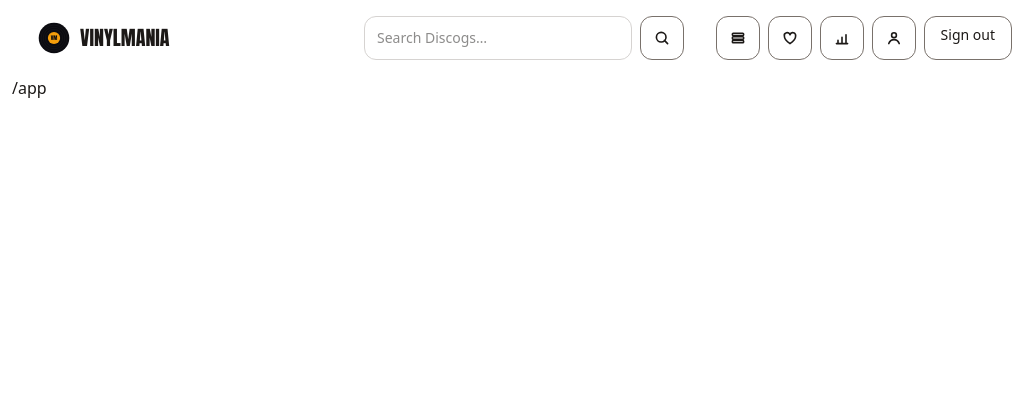
Test: Header search — suggestions (069 US2) › renders and announces nothing when a lookup cleared mid-flight finally lands (FR-015)
Click the button named "search" at {"x": 662, "y": 38}, box [640,16,684,60]
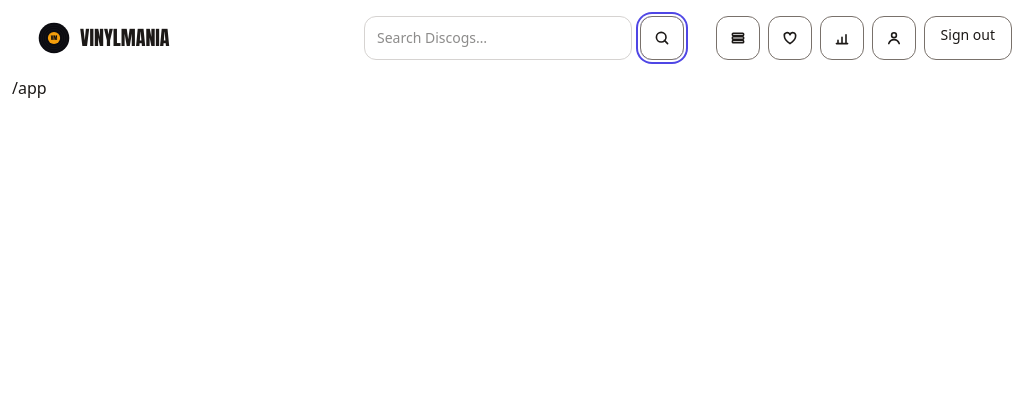
Type "miles" into the dropdown labelled "Search Discogs…" at {"x": 498, "y": 38}, box [364,16,632,60]
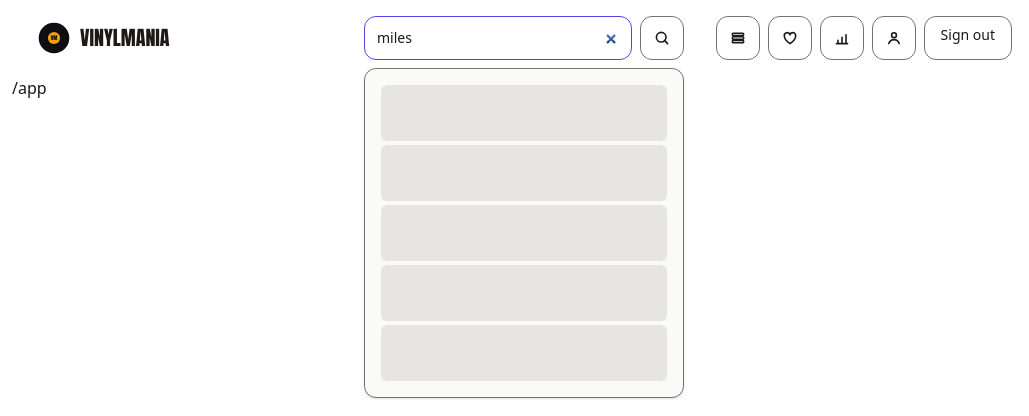
Clear the dropdown named "Search Discogs" at {"x": 498, "y": 38}, box [364,16,632,60]
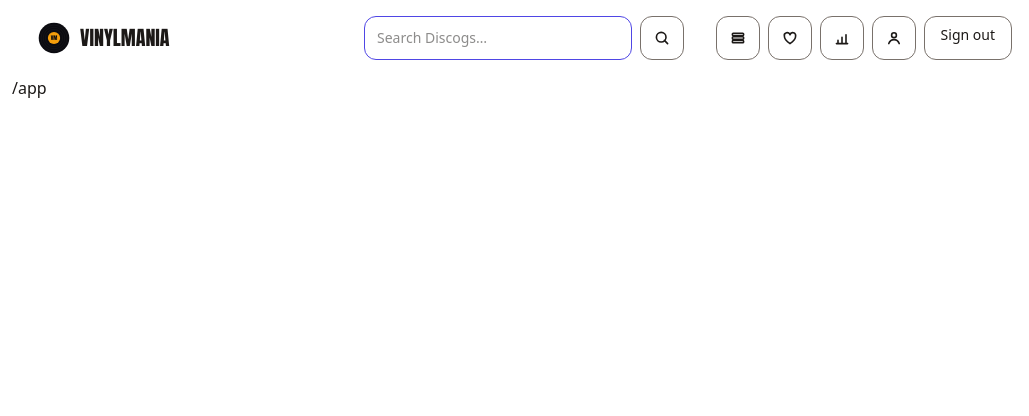
Check: the list is gone
